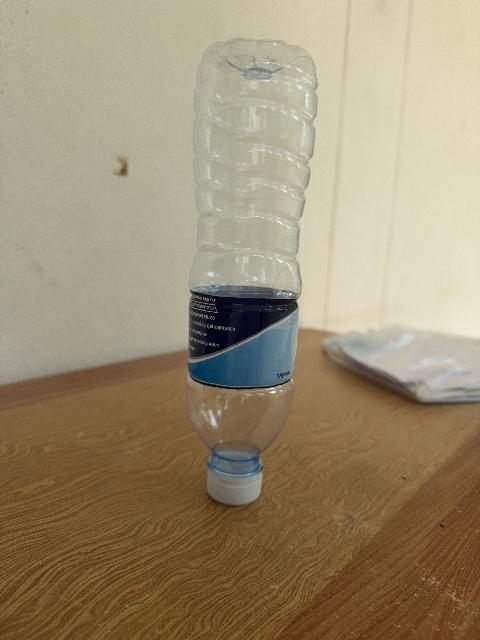bottle: (186, 39, 315, 504)
